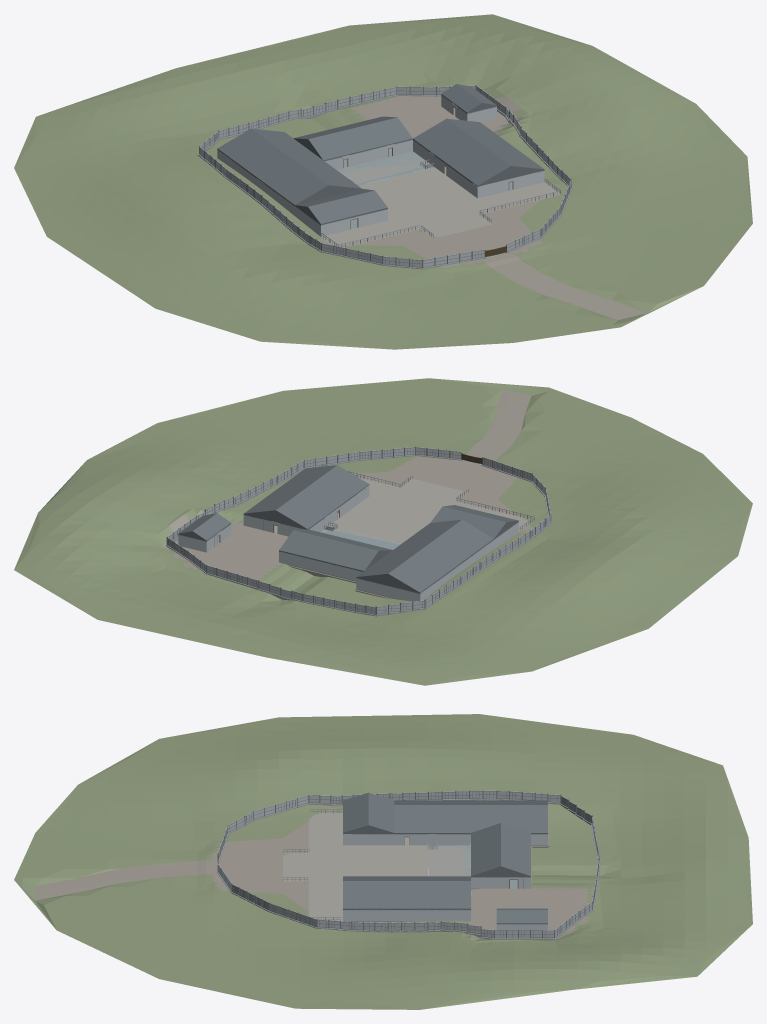
Rendered from station-with-surface-power.glb.
The picture shows the model from 3 angles, top to bottom: view 1: azimuth 30°, elevation 25°; view 2: azimuth 150°, elevation 25°; view 3: azimuth 270°, elevation 25°; orthographic projection. The views are drawn at different scales.
Parts seen in each view (by area): view 1: Northwatch joined valley and service lane, Saved editor geographic earthworks WLD-08.001, WLD-08 compound service forecourt structural surface region0, WLD-08 raised courtyard terrace structural surface region0, dormitory-and-mess roof west, radio-records roof south, laboratory roof west, generator-building roof west, Northwatch braced post line, stores roof south, dormitory-and-mess roof east, WLD-08 main tunnel roof with rectangular wells region0 (+5 smaller); view 2: Northwatch joined valley and service lane, Saved editor geographic earthworks WLD-08.001, WLD-08 raised courtyard terrace structural surface region0, dormitory-and-mess roof west, radio-records roof north, WLD-08 compound service forecourt structural surface region0, generator-building roof west, laboratory roof west, Northwatch braced post line, dormitory-and-mess roof east, stores roof north, generator-building roof east (+4 smaller); view 3: Northwatch joined valley and service lane, Saved editor geographic earthworks WLD-08.001, dormitory-and-mess roof east, WLD-08 compound service forecourt structural surface region0, WLD-08 raised courtyard terrace structural surface region0, laboratory roof east, generator-building roof east, radio-records roof north, radio-records roof south, Northwatch braced post line, WLD-08 main tunnel roof with rectangular wells region0, stores roof north (+8 smaller).
Boxes of the visible parts, x1,y1,x2,y2 form: Northwatch joined valley and service lane: (14, 14, 752, 349); Saved editor geographic earthworks WLD-08.001: (178, 82, 563, 276); WLD-08 compound service forecourt structural surface region0: (321, 182, 561, 246); WLD-08 raised courtyard terrace structural surface region0: (358, 167, 477, 220); dormitory-and-mess roof west: (413, 119, 510, 186); radio-records roof south: (308, 117, 412, 160); laboratory roof west: (256, 157, 328, 205); generator-building roof west: (217, 128, 289, 176); Northwatch braced post line: (197, 85, 573, 269); stores roof south: (308, 190, 387, 224); dormitory-and-mess roof east: (447, 118, 544, 170); WLD-08 main tunnel roof with rectangular wells region0: (338, 151, 429, 183); Northwatch joined valley and service lane: (14, 378, 752, 685); Saved editor geographic earthworks WLD-08.001: (159, 446, 546, 628); WLD-08 raised courtyard terrace structural surface region0: (329, 496, 437, 543); dormitory-and-mess roof west: (275, 465, 369, 529); radio-records roof north: (279, 530, 378, 571); WLD-08 compound service forecourt structural surface region0: (359, 477, 529, 531); generator-building roof west: (388, 547, 457, 592); laboratory roof west: (425, 519, 493, 565); Northwatch braced post line: (165, 446, 552, 616); dormitory-and-mess roof east: (244, 465, 336, 514); stores roof north: (430, 506, 506, 538); generator-building roof east: (356, 546, 424, 577); Northwatch joined valley and service lane: (14, 714, 752, 1009); Saved editor geographic earthworks WLD-08.001: (197, 800, 616, 942); dormitory-and-mess roof east: (343, 881, 470, 909); WLD-08 compound service forecourt structural surface region0: (308, 813, 342, 921); WLD-08 raised courtyard terrace structural surface region0: (343, 845, 428, 876); laboratory roof east: (394, 805, 470, 833); generator-building roof east: (471, 805, 547, 833); radio-records roof north: (501, 823, 530, 876); radio-records roof south: (471, 823, 500, 876); Northwatch braced post line: (219, 790, 600, 939); WLD-08 main tunnel roof with rectangular wells region0: (428, 845, 470, 876); stores roof north: (368, 793, 394, 833).
Bounding box in the file's own units: 166 × 9.04 × 173.
81 materials, 53 textured.
